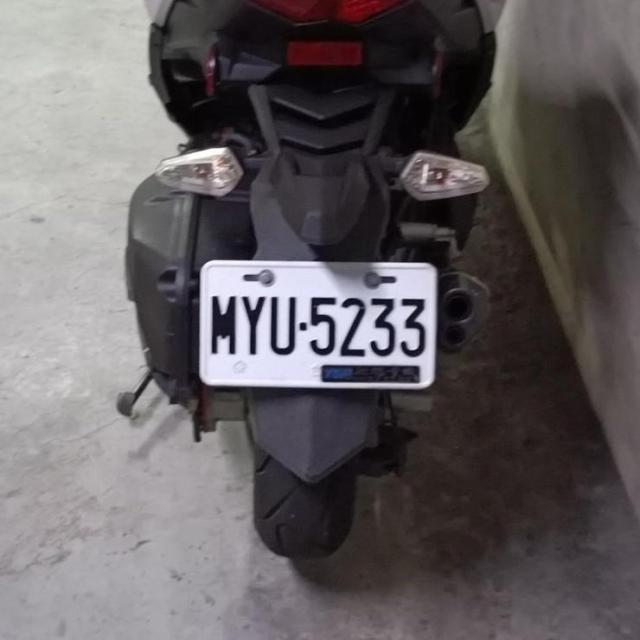W: (197, 255, 440, 388)
